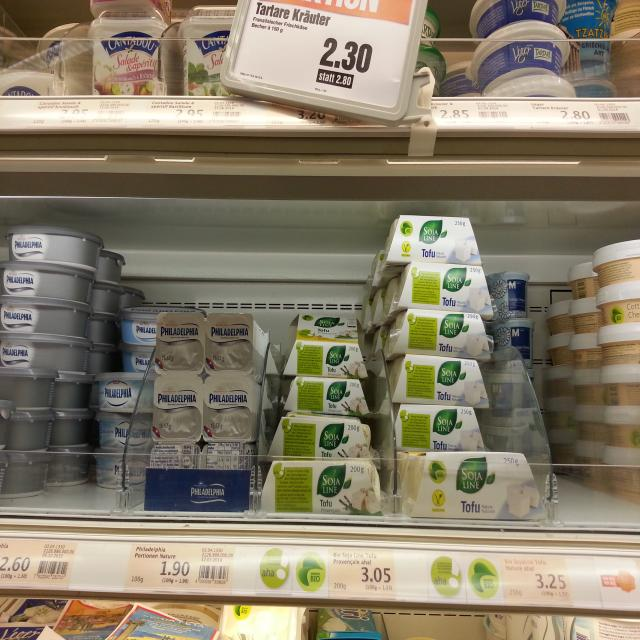Cheese: (152, 316, 258, 438), (392, 445, 542, 514), (140, 432, 258, 519), (88, 7, 176, 101), (261, 456, 387, 516), (473, 16, 573, 91), (391, 349, 494, 408), (384, 260, 492, 316), (384, 308, 494, 362), (389, 399, 492, 453), (261, 412, 376, 460), (386, 213, 484, 267), (5, 226, 109, 274), (0, 332, 94, 378), (0, 298, 94, 342), (0, 263, 96, 305), (282, 373, 373, 417), (282, 336, 375, 378), (471, 0, 573, 35), (120, 304, 205, 344), (94, 367, 156, 417), (487, 262, 531, 326)
